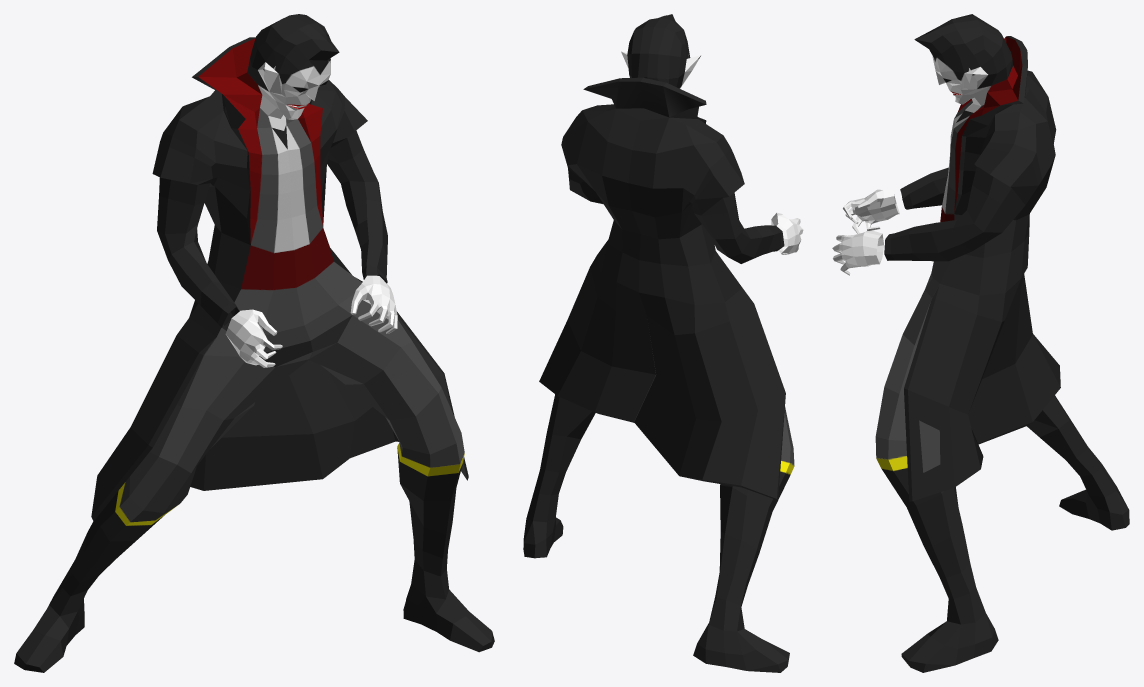
Rendered from VampireAttack(6).obj.
The picture shows the model from 3 angles, left to right: view 1: azimuth 30°, elevation 25°; view 2: azimuth 150°, elevation 25°; view 3: azimuth 270°, elevation 25°; orthographic projection. The views are drawn at different scales.
Visible parts, largest first — view 1: Plane002; view 2: Plane002; view 3: Plane002.
Boxes of the visible parts, x1,y1,x2,y2 form: Plane002: [14, 14, 494, 672]; Plane002: [523, 14, 803, 672]; Plane002: [832, 14, 1129, 672].
Size of the model in its own units: 189 by 303 by 142.
